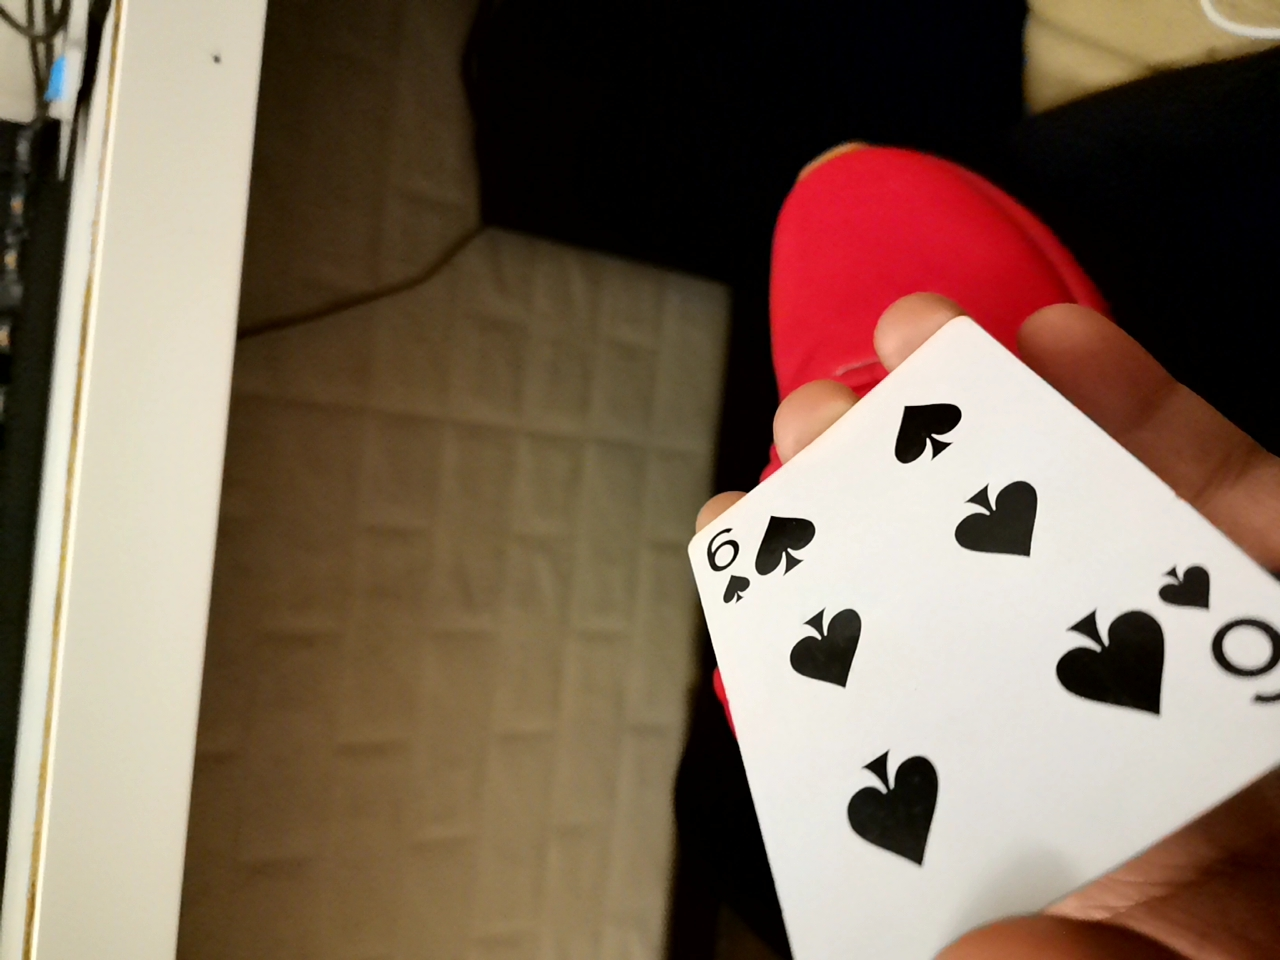ht 6: (657, 311, 1274, 953)
